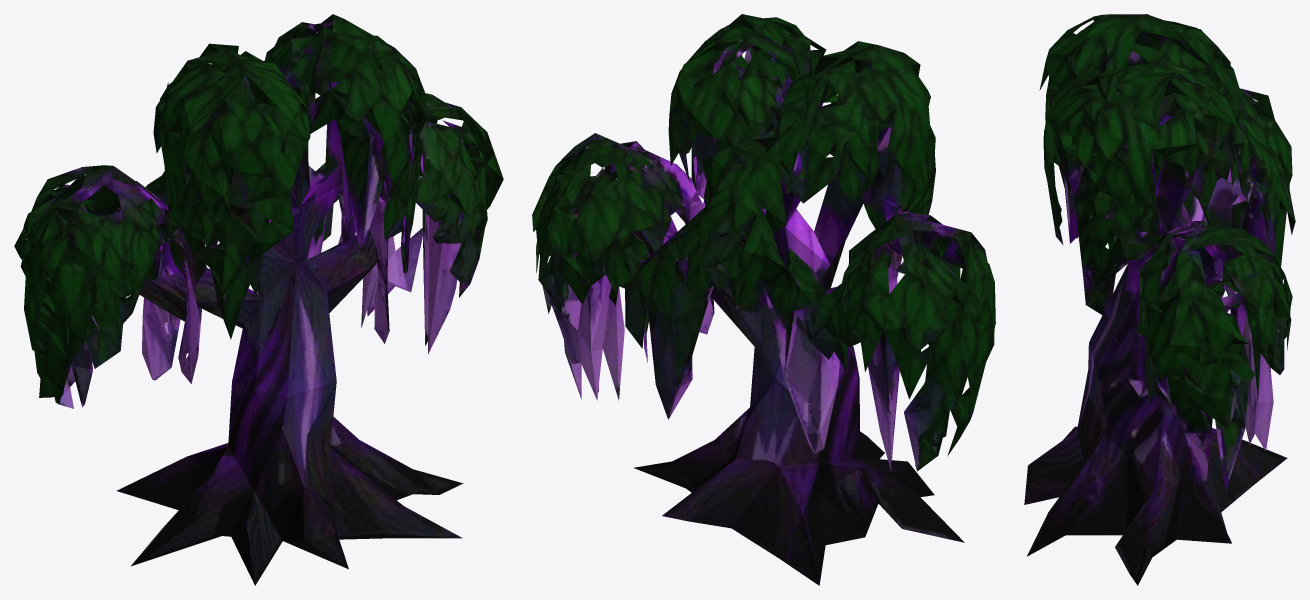
The model's file is willow_tree_2.glb.
3 views of the same model, side by side, from view 1: azimuth 30°, elevation 25°; view 2: azimuth 150°, elevation 25°; view 3: azimuth 270°, elevation 25° (orthographic). The views are drawn at different scales.
Bounding box in the file's own units: 1.93 × 1.96 × 1.03.
1 material, 1 textured.
